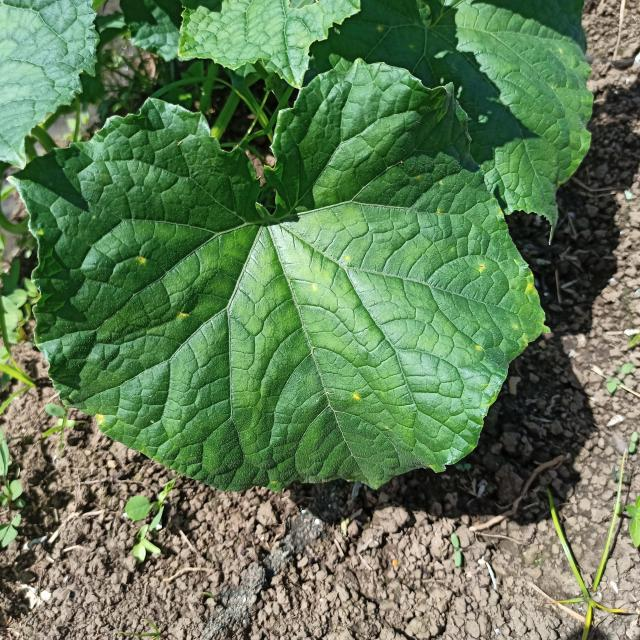disease_cucumber: (524, 273, 536, 295), (136, 255, 148, 266), (176, 311, 188, 319), (474, 343, 483, 351), (311, 284, 318, 294), (479, 264, 486, 274), (96, 413, 103, 422), (353, 392, 359, 402), (344, 255, 351, 263), (38, 230, 44, 236), (498, 210, 504, 214), (438, 210, 440, 214)
